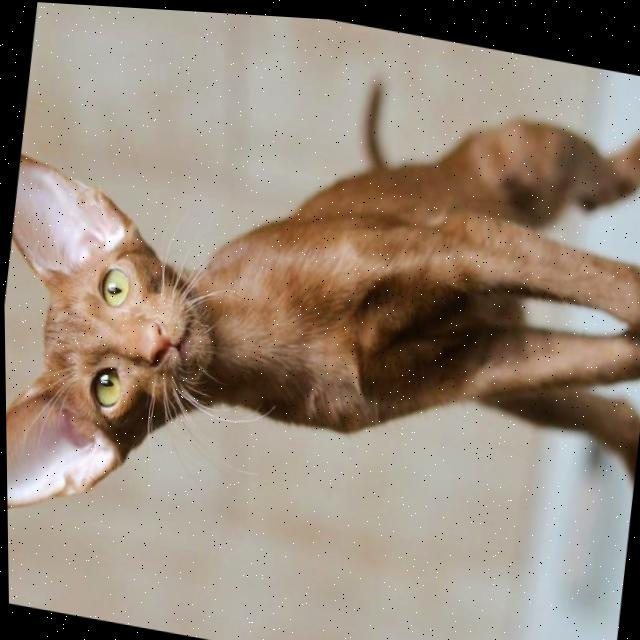Oriental: (0, 0, 640, 620)
